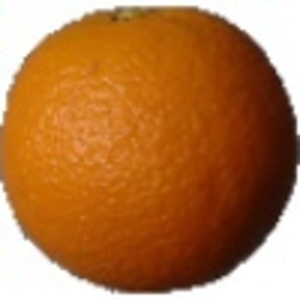laranja: (2, 1, 299, 295)
